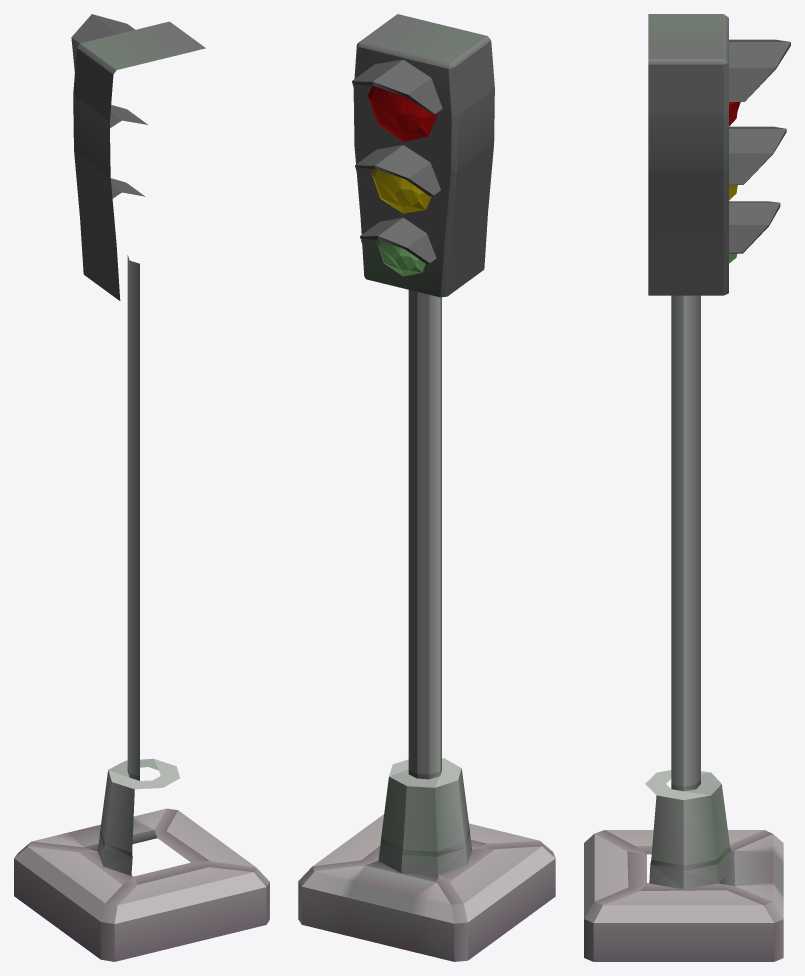
The model's file is city_sideBump_trafficLight.glb.
3 renders of one model, left to right at view 1: azimuth 30°, elevation 25°; view 2: azimuth 150°, elevation 25°; view 3: azimuth 270°, elevation 25°, orthographic. The views are drawn at different scales.
Visible parts, largest first — view 1: city_sideBump_trafficLight; view 2: city_sideBump_trafficLight; view 3: city_sideBump_trafficLight.
Boxes of the visible parts, x1,y1,x2,y2 form: city_sideBump_trafficLight: [14, 14, 269, 961]; city_sideBump_trafficLight: [298, 14, 555, 961]; city_sideBump_trafficLight: [584, 14, 790, 961].
Bounding box in the file's own units: 0.6427 × 3.15 × 0.6673.
